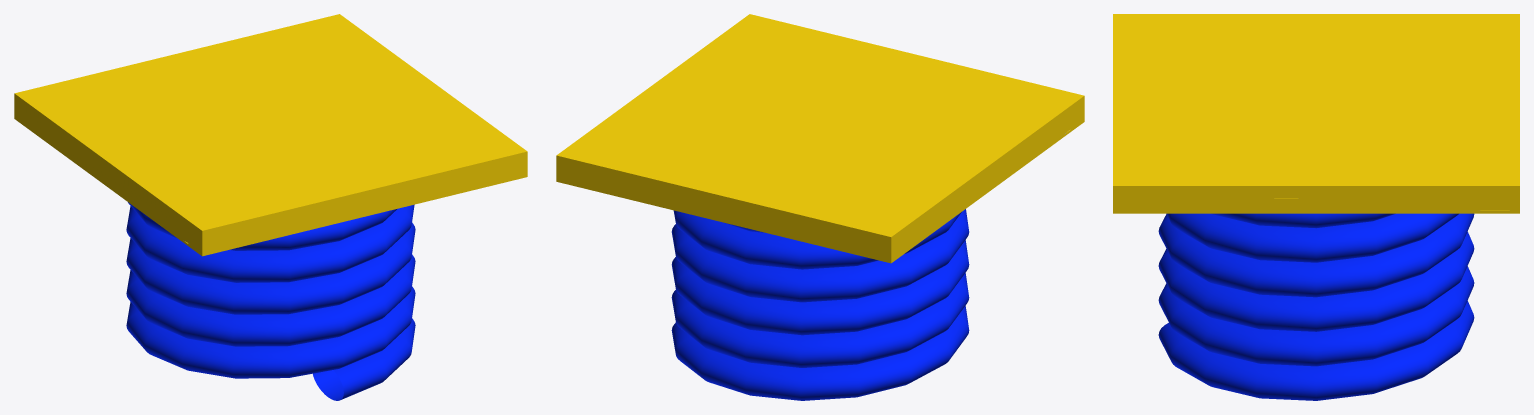
Rendered from spring.obj.
3 views of the same model, side by side, from view 1: azimuth 30°, elevation 25°; view 2: azimuth 150°, elevation 25°; view 3: azimuth 270°, elevation 25° (orthographic). The views are drawn at different scales.
Parts seen in each view (by area): view 1: 立方体; view 2: 立方体; view 3: 立方体.
Boxes of the visible parts, x1=… form: 立方体: x1=14, y1=14, x2=527, y2=400; 立方体: x1=556, y1=14, x2=1084, y2=400; 立方体: x1=1113, y1=14, x2=1519, y2=400.
Bounding box in the file's own units: 0.8 × 0.5475 × 0.8.
1 material, 1 textured.
